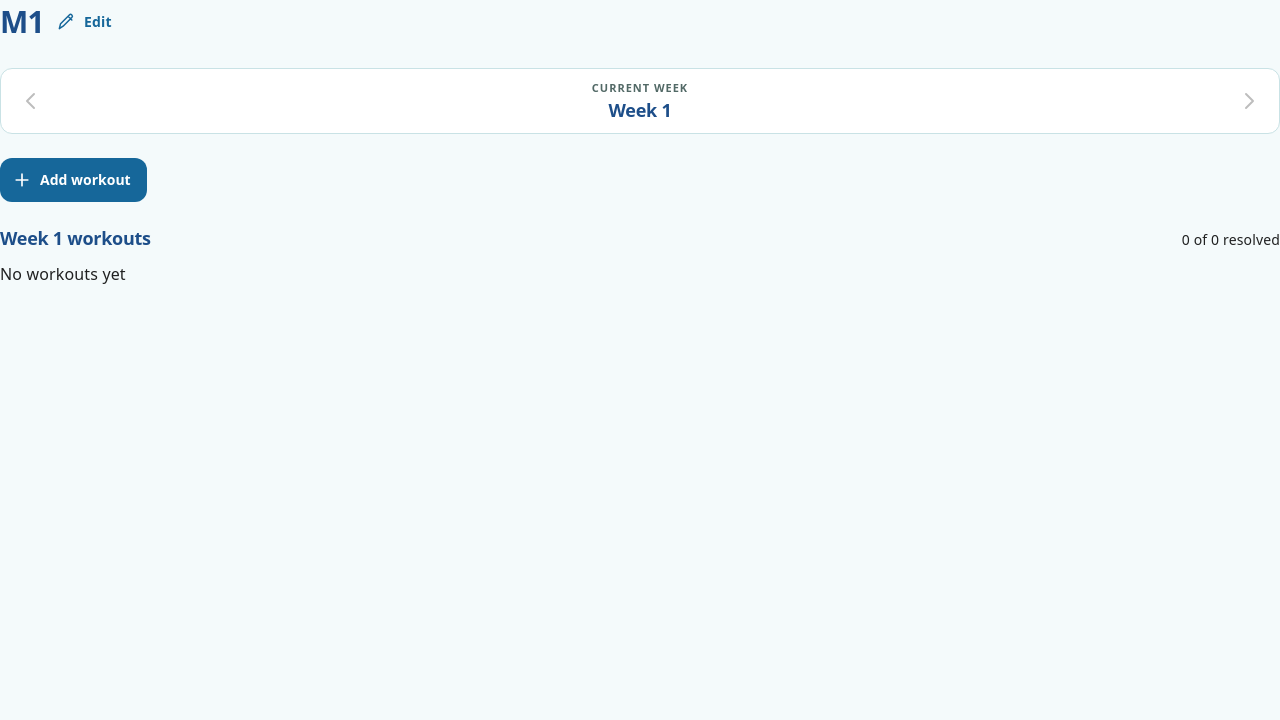
training iteration 1 pages › offers manual or Sheet authoring only from the current week
This screenshot has width=1280, height=720.
Expected: the text "No workouts yet" is shown, top-left (0, 263), bottom-right (126, 285)
Step 1. Click the button "Add workout" → (73, 180), box top-left (0, 158), bottom-right (147, 202)
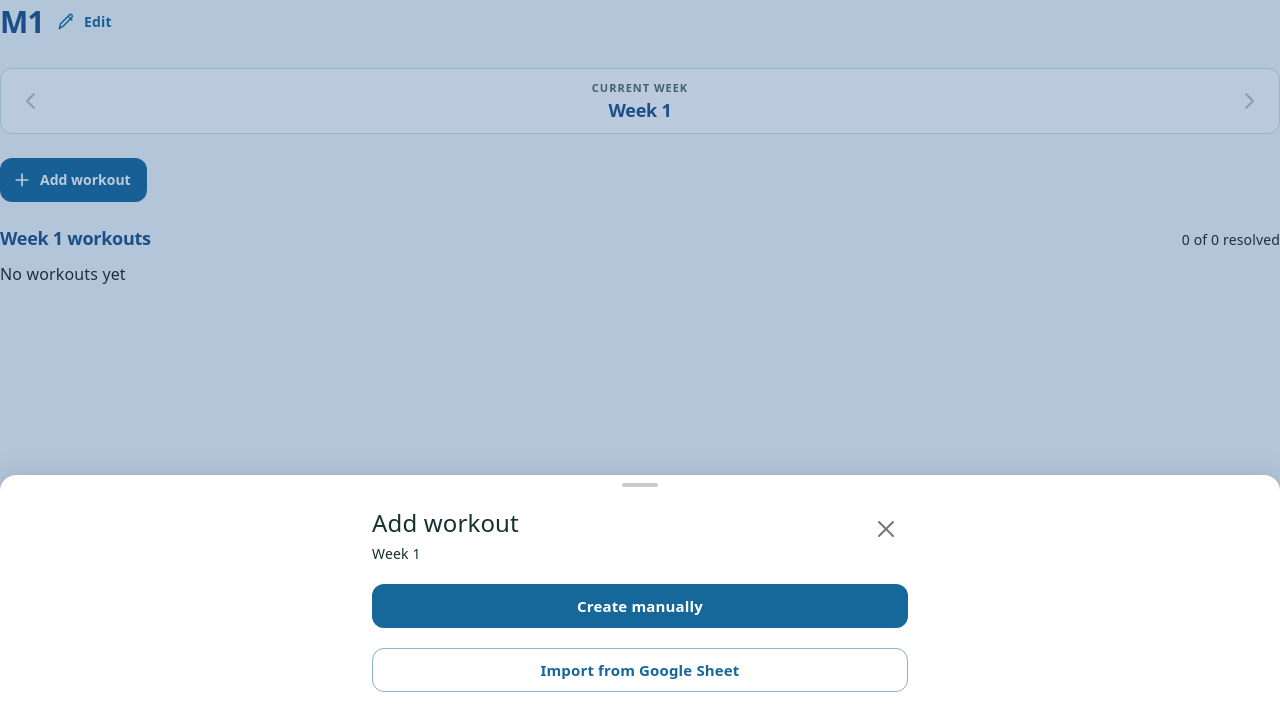
Now the dialog "Add workout" is shown, box top-left (0, 475), bottom-right (1279, 719)
